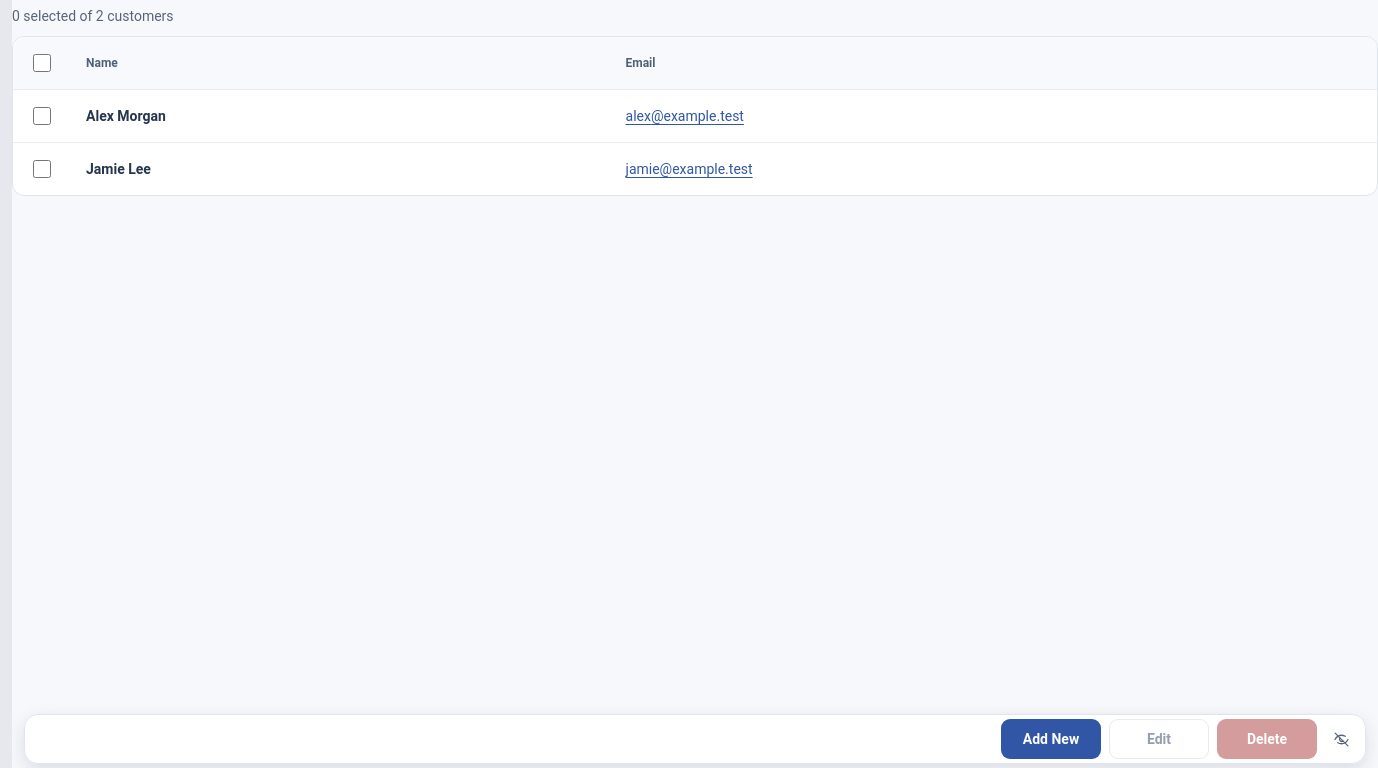
Test: CustomersComponent › keeps customer data and selection and shows an inline error when deletion fails
Click the checkbox named "Select Alex Morgan" at (42, 116), box [33,107,51,125]
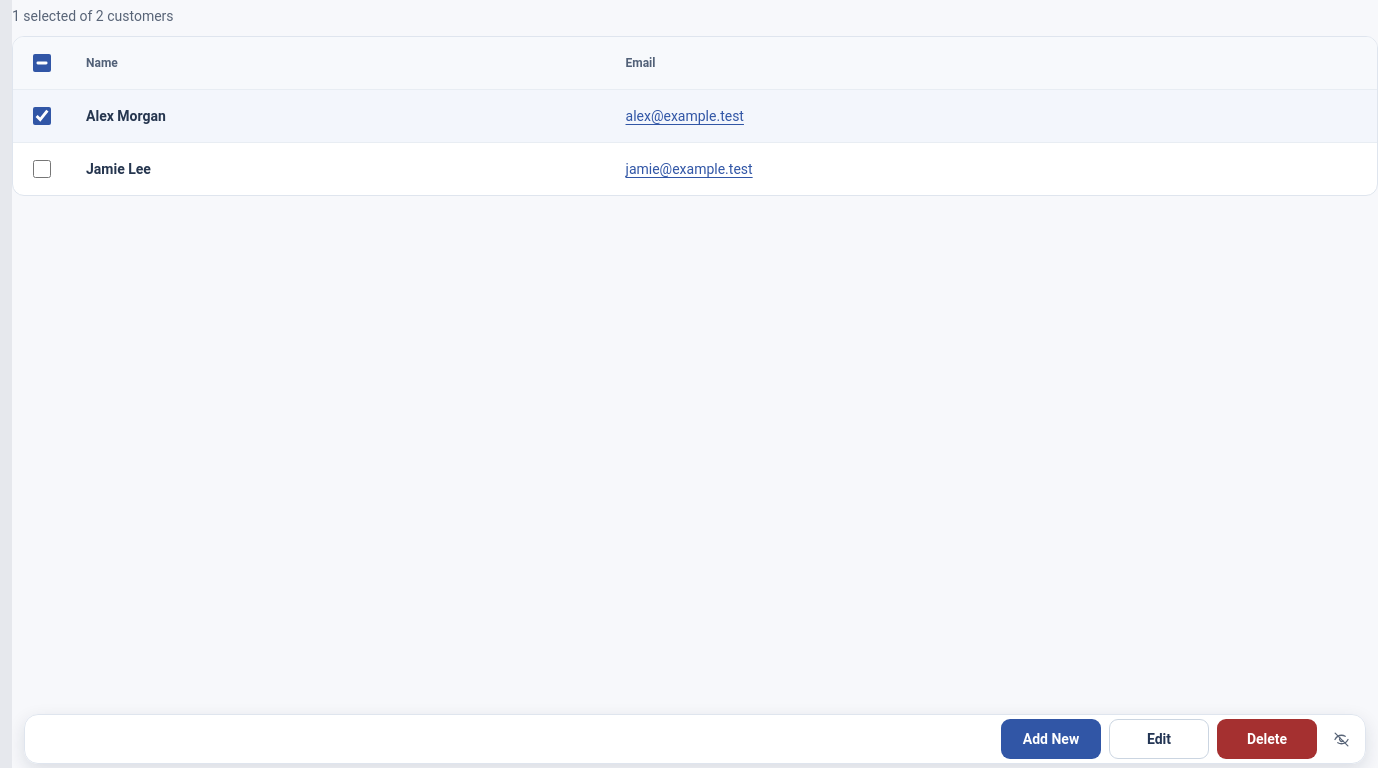
Click the button with class "danger" at (1267, 739), box [1217,719,1317,759]
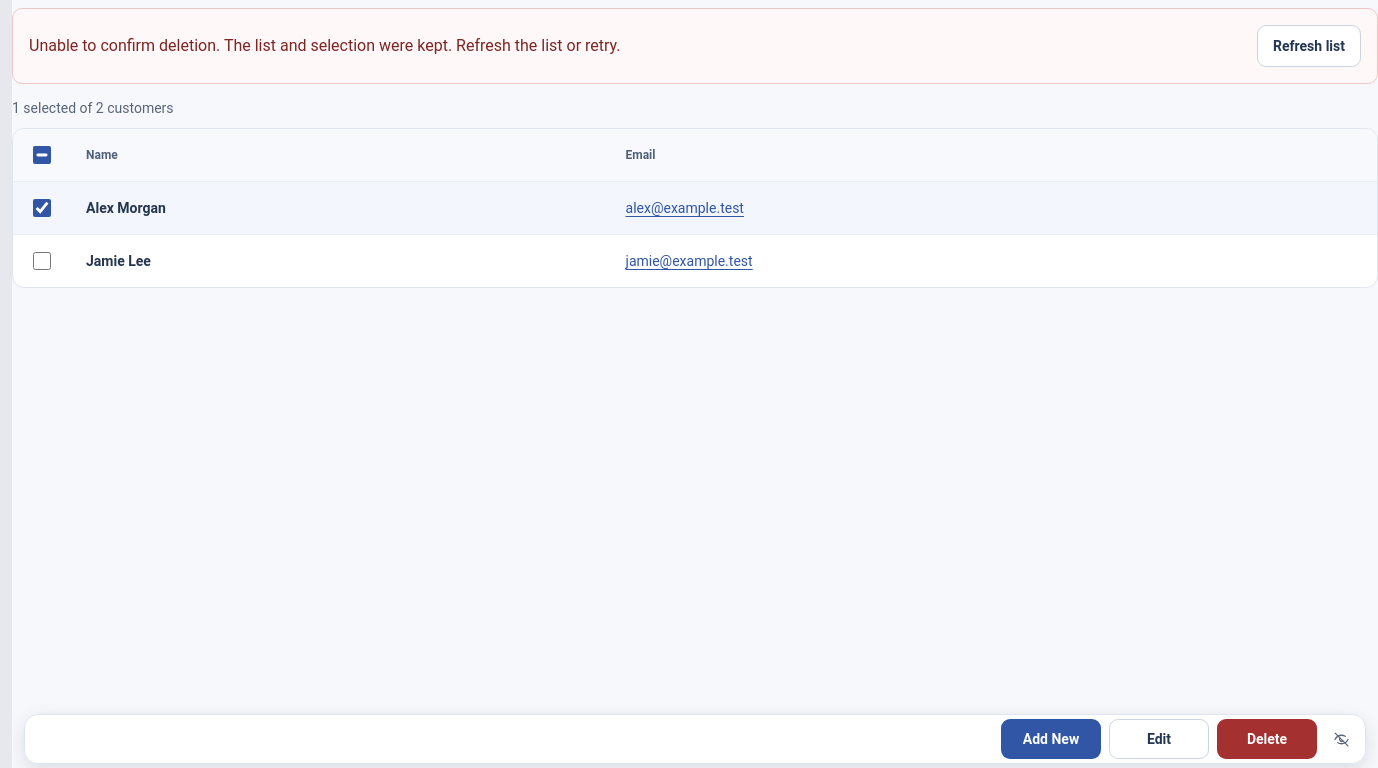
expect the text "Alex Morgan" is shown: met, box [70,182,610,234]
expect the message shows "Unable to confirm deletion": met, box [29,36,621,55]
